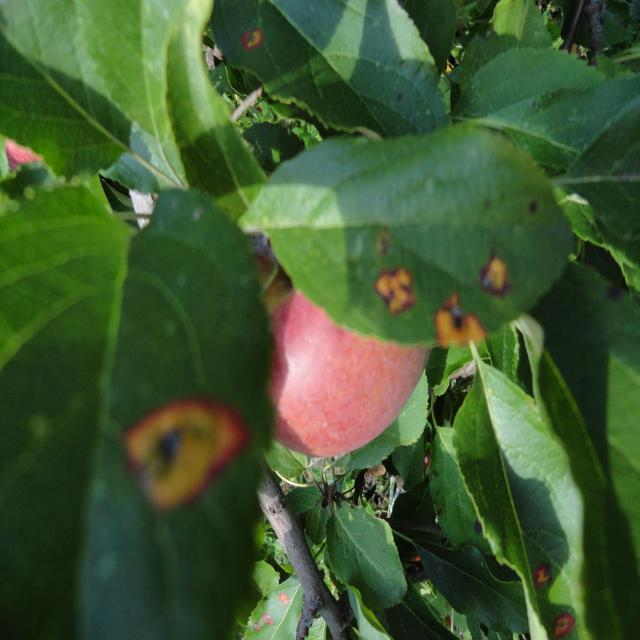Rust: (116, 391, 258, 519), (365, 260, 418, 322), (438, 296, 488, 346), (476, 240, 515, 296), (536, 603, 584, 639), (525, 562, 566, 598), (251, 609, 276, 632), (268, 587, 292, 608)
